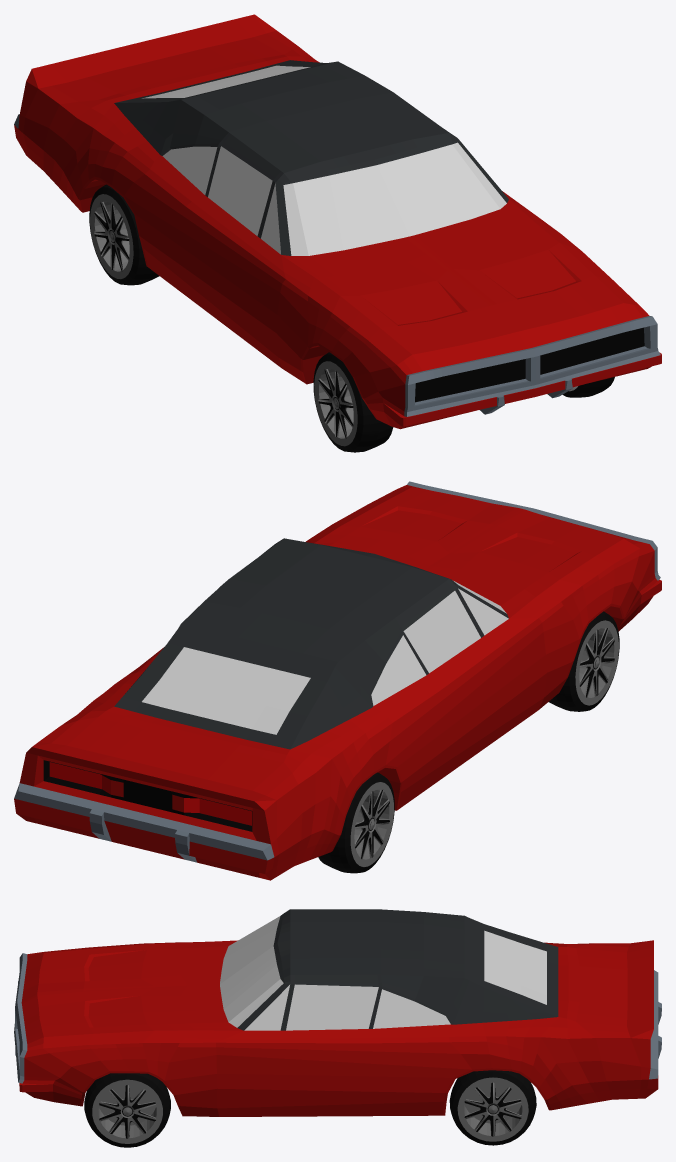
Rendered from dodge.obj.
3 views of the same model, one above another, from view 1: azimuth 30°, elevation 25°; view 2: azimuth 150°, elevation 25°; view 3: azimuth 270°, elevation 25° (orthographic). The views are drawn at different scales.
Visible parts, largest first — view 1: Plane_Plane.002, Circle.002, Circle.001; view 2: Plane_Plane.002, Circle.001, Circle.002; view 3: Plane_Plane.002, Circle.004, Circle.003.
Boxes of the visible parts, left/top/right/bottom form: Plane_Plane.002: left=14, top=14, right=661, bottom=429; Circle.002: left=313, top=352, right=393, bottom=452; Circle.001: left=89, top=184, right=159, bottom=285; Plane_Plane.002: left=14, top=481, right=661, bottom=880; Circle.001: left=318, top=772, right=394, bottom=873; Circle.002: left=549, top=611, right=619, bottom=711; Plane_Plane.002: left=14, top=909, right=661, bottom=1116; Circle.004: left=449, top=1070, right=536, bottom=1145; Circle.003: left=84, top=1073, right=170, bottom=1147.
Bounding box in the file's own units: 2.56 × 1.77 × 6.48.
